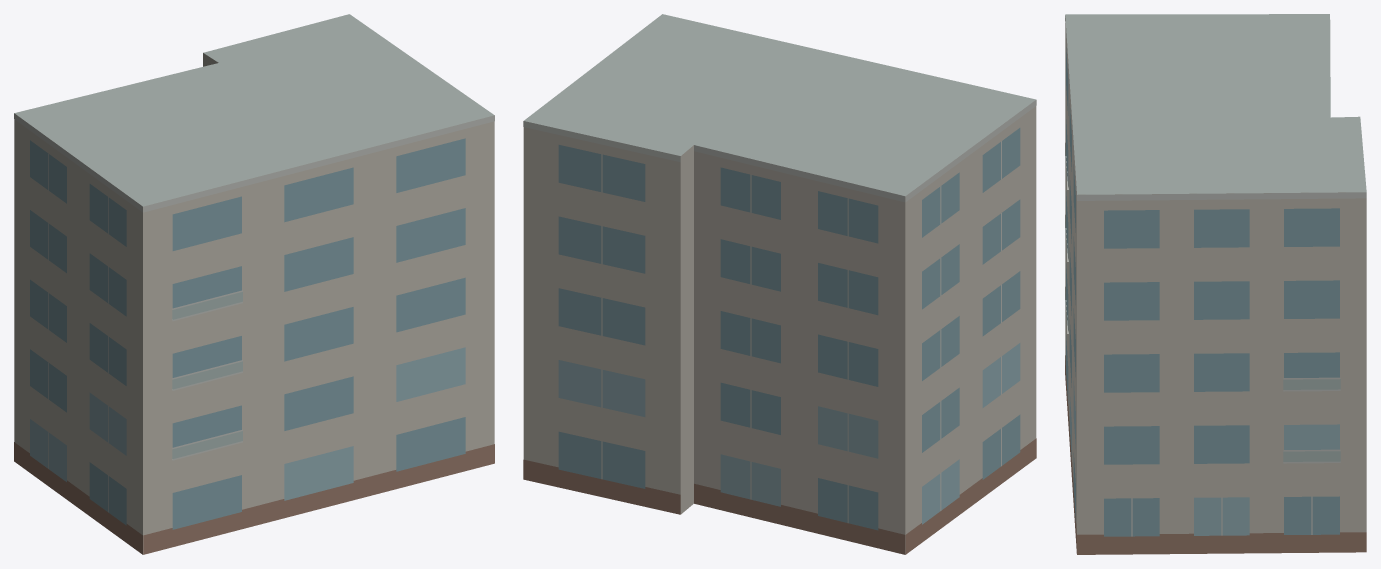
The model's file is survey-upis-32640855.glb.
3 views of the same model, side by side, from view 1: azimuth 30°, elevation 25°; view 2: azimuth 150°, elevation 25°; view 3: azimuth 270°, elevation 25° (orthographic). The views are drawn at different scales.
Parts seen in each view (by area): view 1: survey-upis-32640855.tmp; view 2: survey-upis-32640855.tmp; view 3: survey-upis-32640855.tmp.
Boxes of the visible parts, x1,y1,x2,y2 form: survey-upis-32640855.tmp: (14, 14, 494, 554); survey-upis-32640855.tmp: (523, 14, 1036, 554); survey-upis-32640855.tmp: (1065, 14, 1366, 554).
Size of the model in its own units: 15.3 by 14.2 by 10.79.
